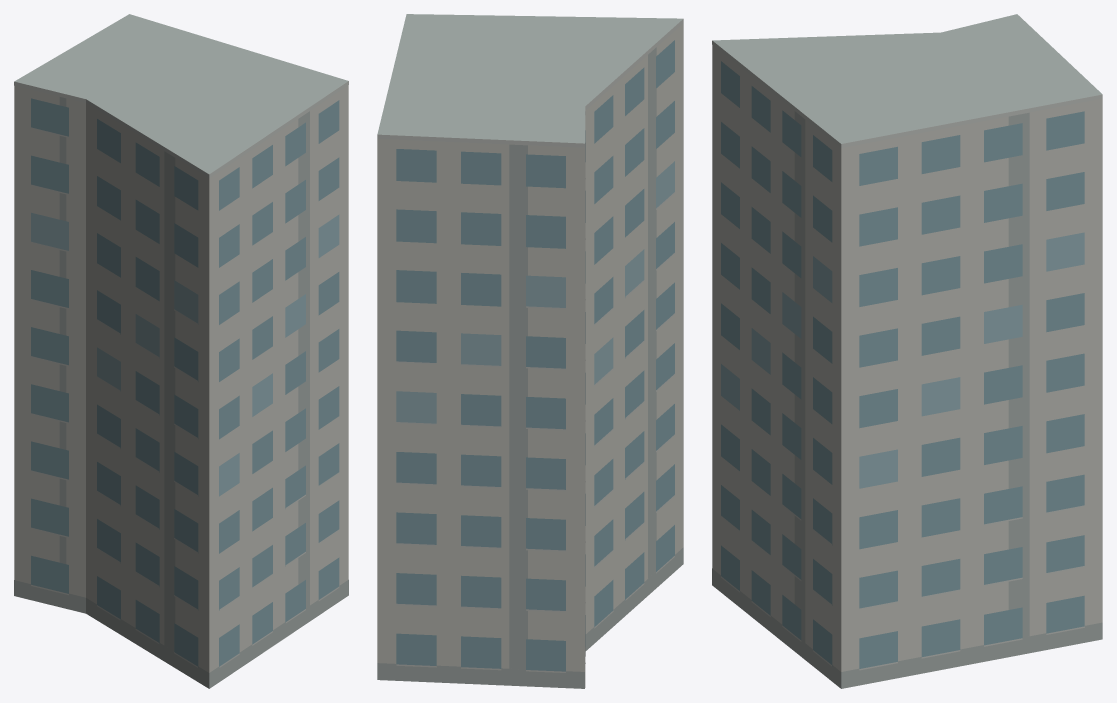
The model's file is residential-d36acbd8-740f-419b-b898-7b9a78f7e91f.glb.
3 views of the same model, side by side, from view 1: azimuth 30°, elevation 25°; view 2: azimuth 150°, elevation 25°; view 3: azimuth 270°, elevation 25° (orthographic). The views are drawn at different scales.
Parts seen in each view (by area): view 1: residential-d36acbd8-740f-419b-b898-7b9a78f7e91f.tmp; view 2: residential-d36acbd8-740f-419b-b898-7b9a78f7e91f.tmp; view 3: residential-d36acbd8-740f-419b-b898-7b9a78f7e91f.tmp.
Part boxes in pixels (x1,y1,x2,y2): residential-d36acbd8-740f-419b-b898-7b9a78f7e91f.tmp: [14, 14, 348, 688]; residential-d36acbd8-740f-419b-b898-7b9a78f7e91f.tmp: [377, 14, 683, 688]; residential-d36acbd8-740f-419b-b898-7b9a78f7e91f.tmp: [712, 14, 1102, 688].
Size of the model in its own units: 15.87 by 31 by 20.15.
